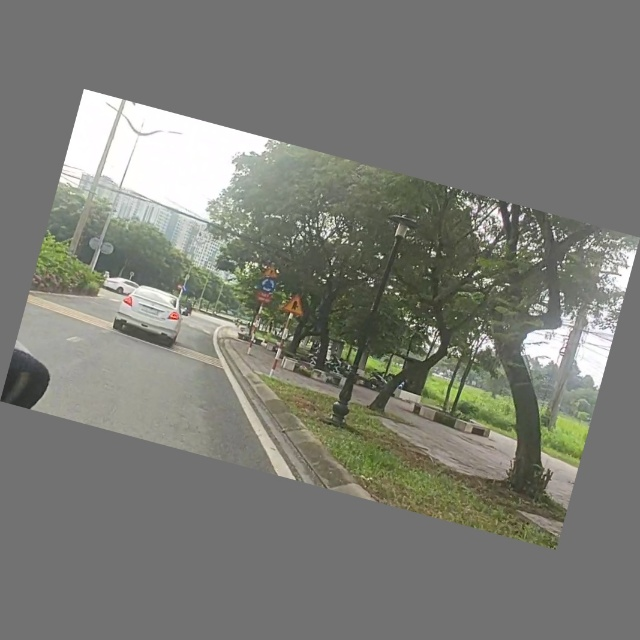P.102: (175, 284, 183, 291)
R.303: (258, 277, 278, 295)
W.207: (279, 292, 311, 320)
W.224: (261, 264, 280, 280)
